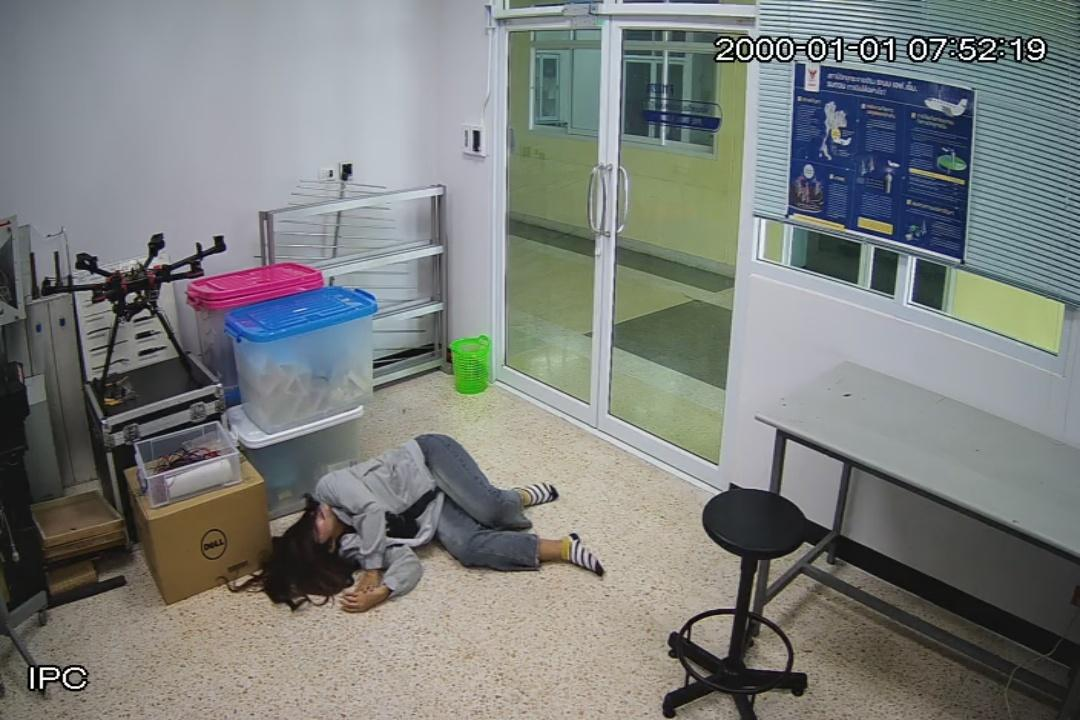fall: (282, 428, 605, 618)
